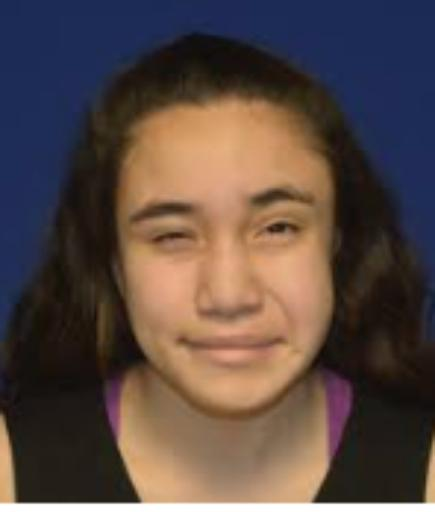left_eye: (255, 220, 306, 245)
left_lip_corner: (268, 331, 291, 354)
right_eye: (147, 230, 197, 254)
right_lip_corner: (175, 332, 201, 354)
